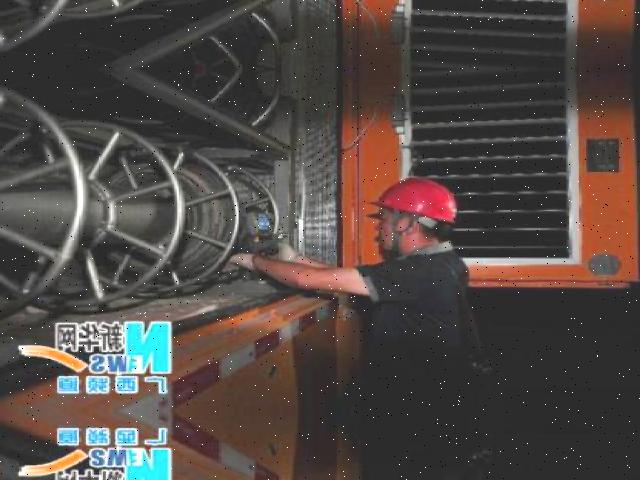Helmet: (369, 170, 468, 228)
